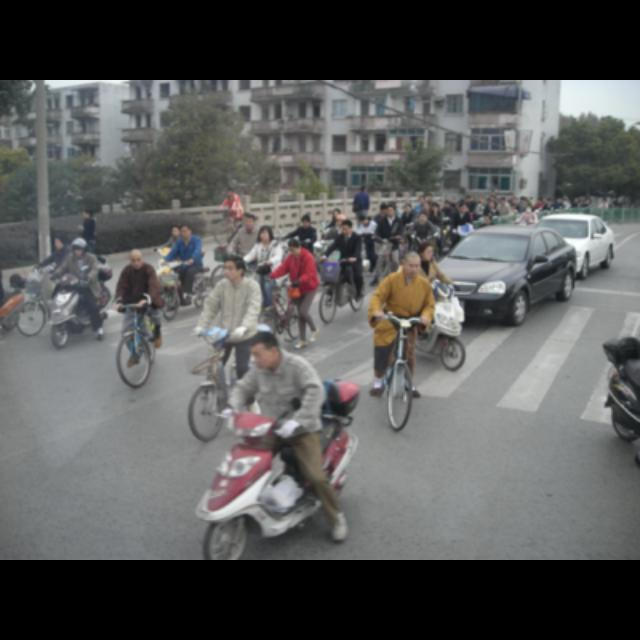With Helmet: (68, 237, 88, 256)
Without Helmet: (397, 248, 427, 278), (221, 249, 247, 283), (124, 247, 152, 276), (339, 218, 355, 238)
